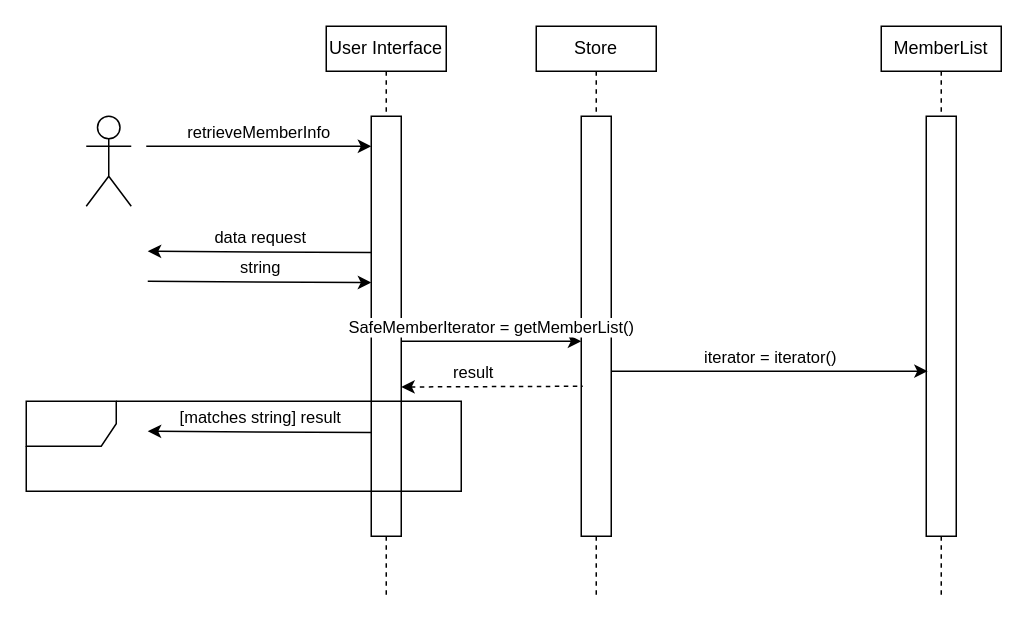
Image size: 1028x624. Some labels were removed from this diagram. The shapes that lost their labels are listed below. From the top down, each one's box as (x1, y1, x2, y2) in pixels, then its label:
(85, 115, 131, 206): Actor
(25, 400, 461, 491): loop
